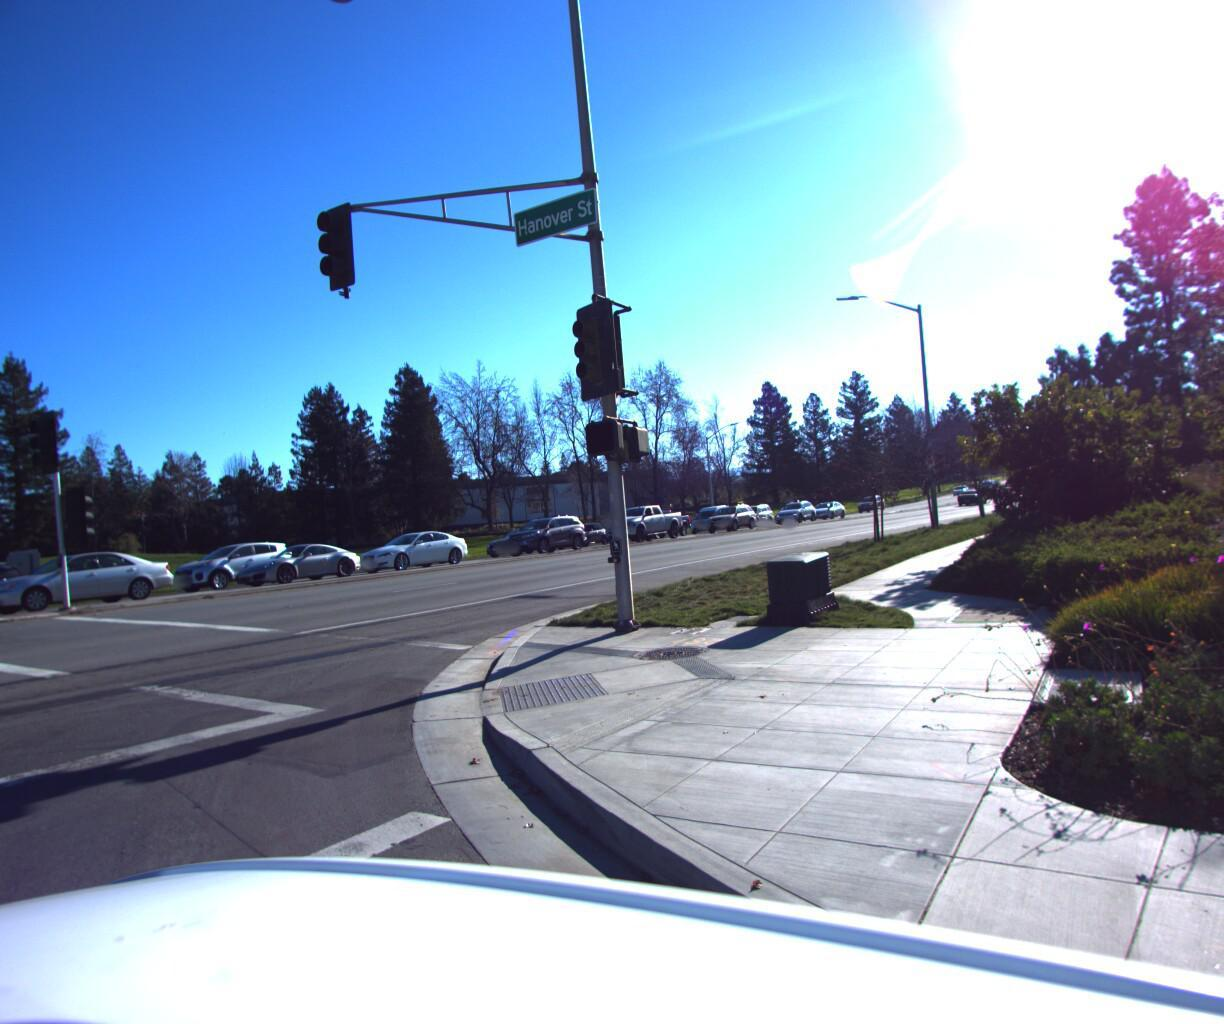car: (0, 540, 180, 612), (161, 532, 304, 588), (220, 532, 368, 583), (347, 520, 479, 569), (493, 505, 590, 552), (595, 499, 686, 541), (0, 551, 43, 624), (476, 519, 562, 552), (699, 494, 757, 528), (682, 498, 735, 527), (728, 498, 775, 522), (772, 494, 816, 519), (952, 482, 985, 500)
